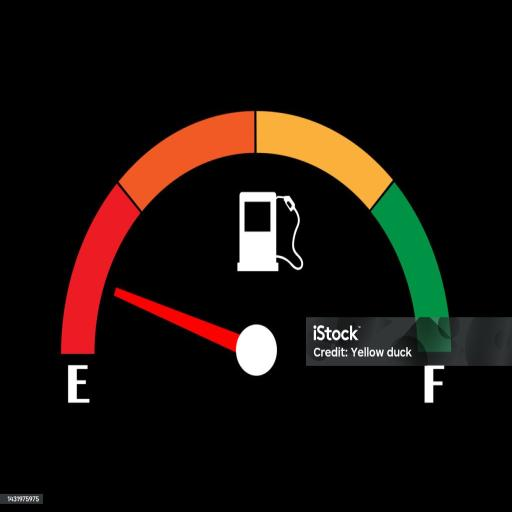empty: (63, 361, 95, 407)
fuel_icon: (233, 184, 308, 279)
full: (422, 364, 448, 408)
guage_area: (56, 105, 456, 428)
needle_center: (232, 324, 280, 378)
needle_tip: (112, 284, 129, 303)
